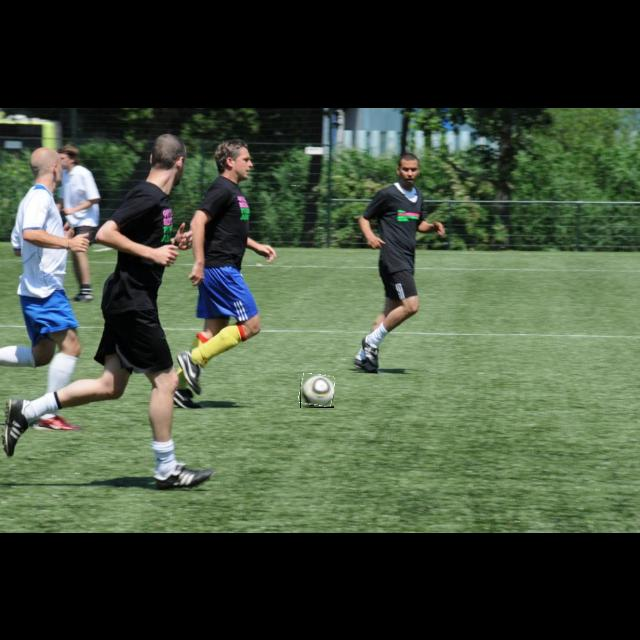Football: (300, 374, 334, 408)
